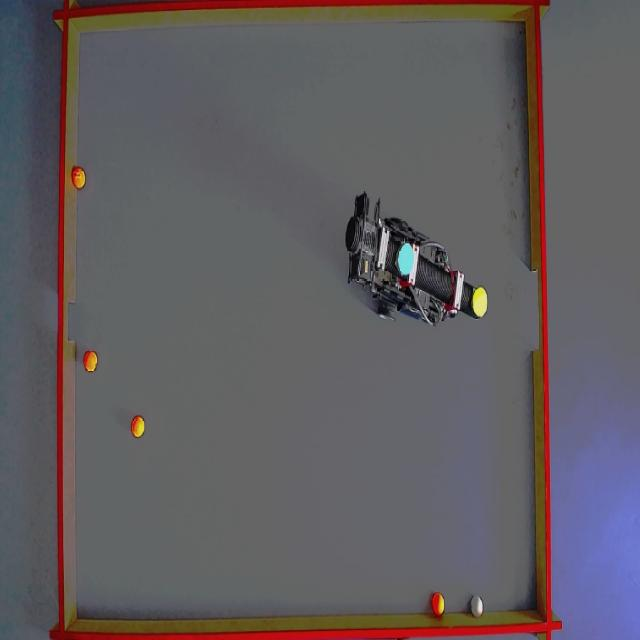orange: (72, 164, 86, 190), (131, 415, 146, 438), (85, 352, 98, 373), (434, 594, 446, 614)
robot: (339, 197, 494, 329)
robot-front: (472, 283, 490, 317)
robot-rear: (397, 244, 414, 278)
white: (472, 600, 486, 618)
